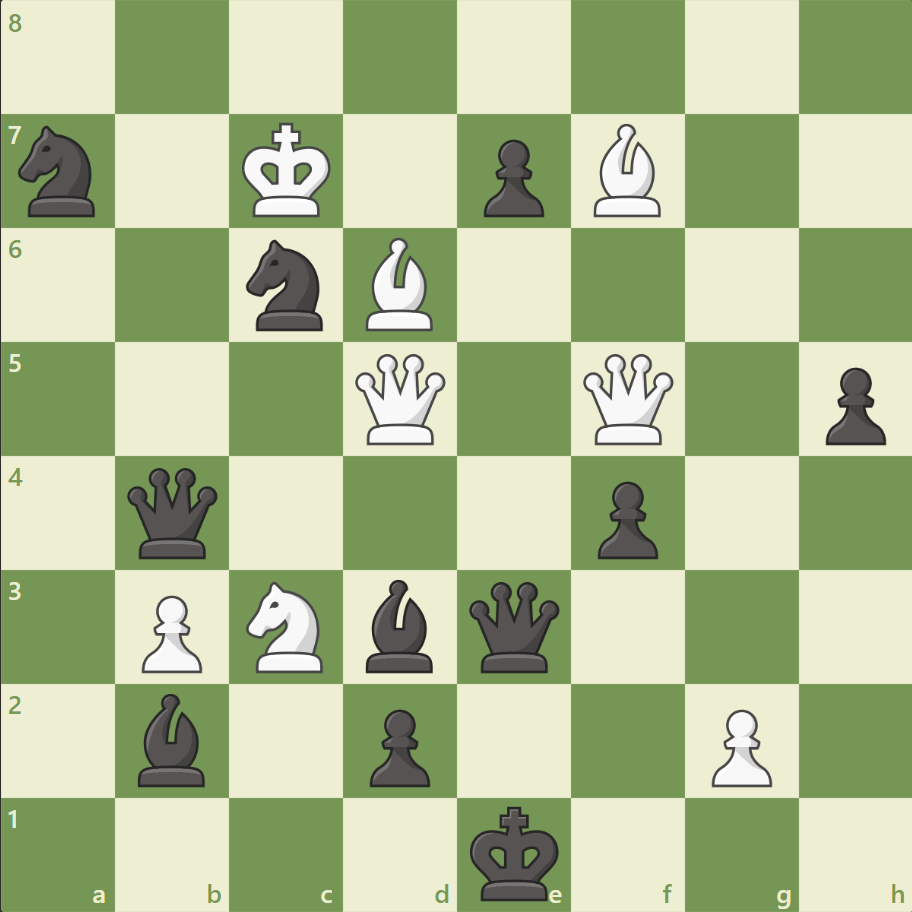B: (358, 233, 442, 336), (585, 120, 669, 222)
K: (238, 117, 338, 225)
N: (238, 575, 335, 677)
P: (133, 586, 208, 677), (701, 700, 776, 791)
Q: (351, 349, 450, 449), (578, 349, 677, 449)
b: (131, 687, 215, 790), (358, 574, 442, 676)
k: (465, 798, 565, 906)
n: (238, 234, 335, 337), (11, 121, 108, 223)
p: (474, 132, 549, 223), (815, 359, 889, 450), (588, 473, 662, 564), (361, 700, 435, 791)
q: (464, 576, 563, 676), (124, 463, 223, 562)
